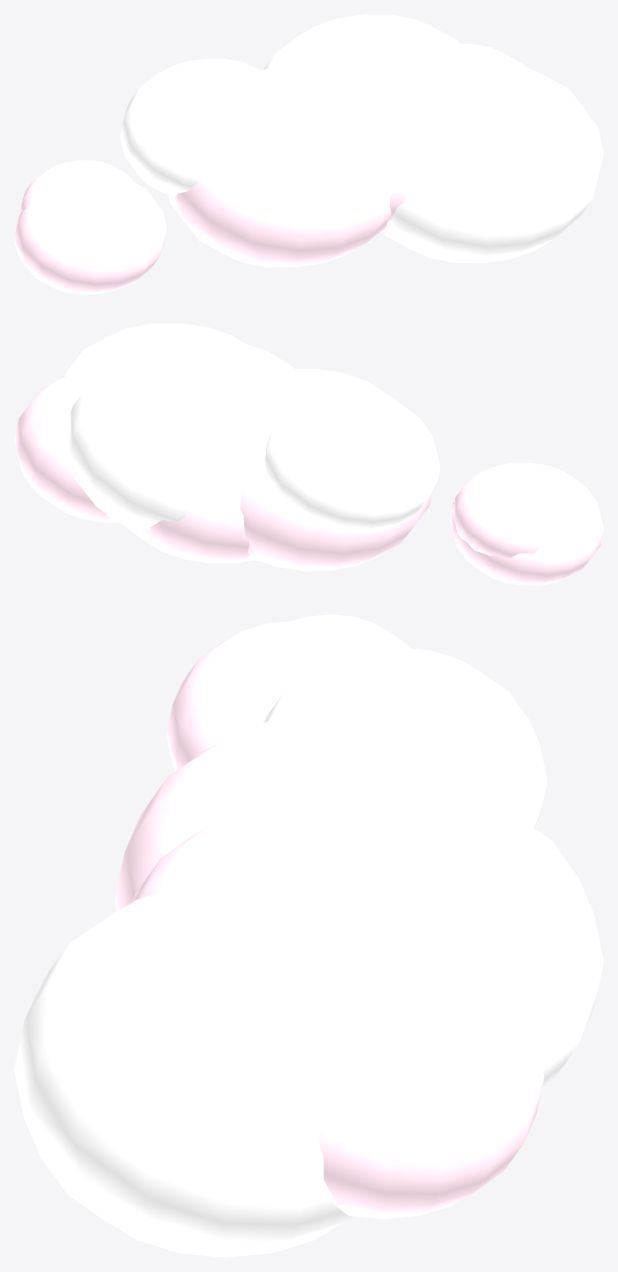
File: hs_cloud_b.glb
3 views of the same model, one above another, from view 1: azimuth 30°, elevation 25°; view 2: azimuth 150°, elevation 25°; view 3: azimuth 270°, elevation 25° (orthographic). The views are drawn at different scales.
Parts seen in each view (by area): view 1: hs_cloud_b; view 2: hs_cloud_b; view 3: hs_cloud_b.
Part boxes in pixels (bbox=[...]): hs_cloud_b: bbox=[14, 14, 603, 294]; hs_cloud_b: bbox=[14, 323, 603, 585]; hs_cloud_b: bbox=[14, 614, 603, 1257].
Bounding box in the file's own units: 7.87 × 2.79 × 4.04.
Materials: 2 (2 with a texture image).
